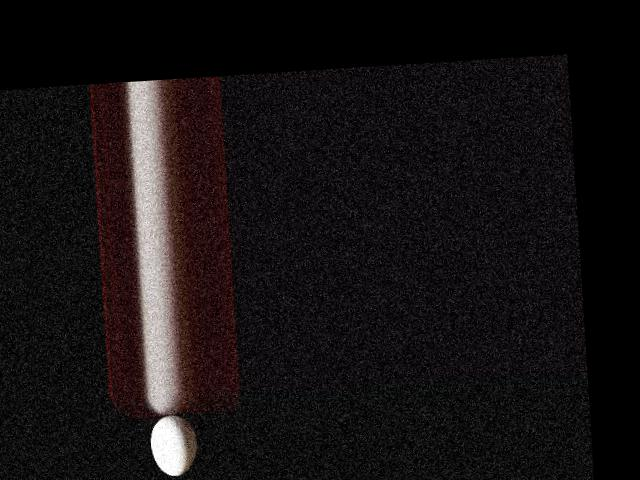egg: (148, 413, 197, 477)
